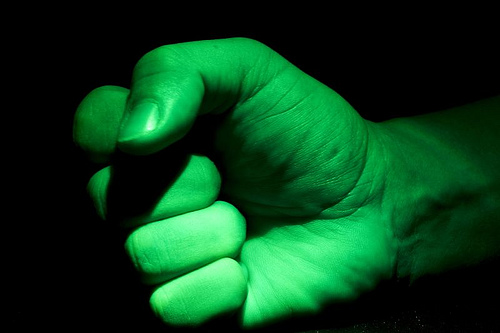fist: (76, 48, 375, 315)
